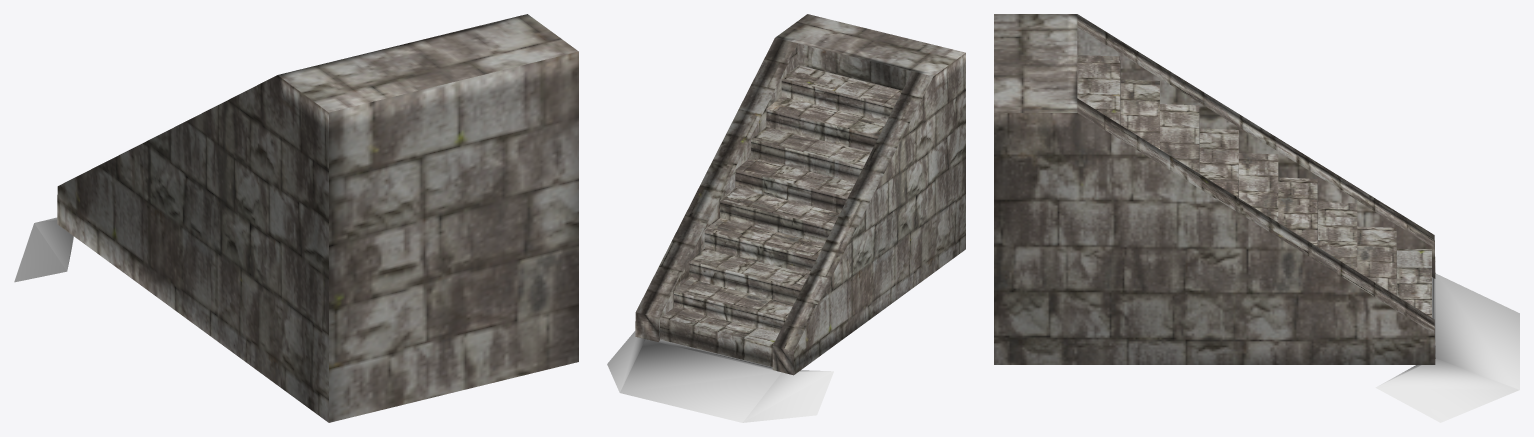
The model's file is staircase_2.glb.
The picture shows the model from 3 angles, left to right: view 1: azimuth 30°, elevation 25°; view 2: azimuth 150°, elevation 25°; view 3: azimuth 270°, elevation 25°; orthographic projection. The views are drawn at different scales.
Parts seen in each view (by area): view 1: staircase_2; view 2: staircase_2; view 3: staircase_2.
Boxes of the visible parts, left/top/right/bottom form: staircase_2: left=14, top=14, right=578, bottom=422; staircase_2: left=607, top=14, right=965, bottom=422; staircase_2: left=994, top=14, right=1519, bottom=422.
Size of the model in its own units: 4.47 by 4.66 by 7.56.
Materials: 2 (1 with a texture image).
